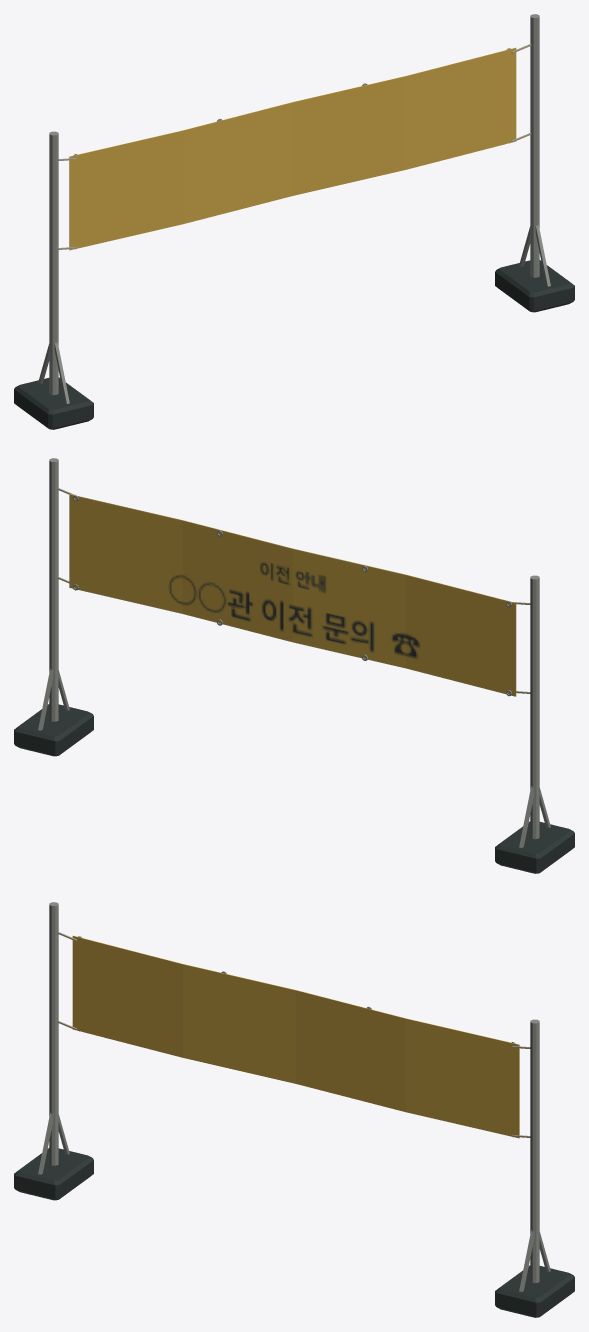
Rendered from D04_Banner_Before.fbx.
3 renders of one model, top to bottom at view 1: azimuth 30°, elevation 25°; view 2: azimuth 150°, elevation 25°; view 3: azimuth 330°, elevation 25°, orthographic.
Parts seen in each view (by area): view 1: Cloth_Back, Banner_Masts; view 2: Front_Banner, Banner_Masts, Cloth_Back; view 3: Cloth_Back, Banner_Masts.
Part boxes in pixels (box(x1,y1,x2,y2)): Cloth_Back: box(69, 47, 516, 250); Banner_Masts: box(14, 14, 574, 429); Front_Banner: box(69, 494, 515, 696); Banner_Masts: box(14, 458, 574, 873); Cloth_Back: box(69, 494, 516, 696); Cloth_Back: box(72, 935, 519, 1138); Banner_Masts: box(14, 902, 574, 1317).
Size of the model in its own units: 5.52 by 2.8 by 0.68.
5 materials, 1 textured.
